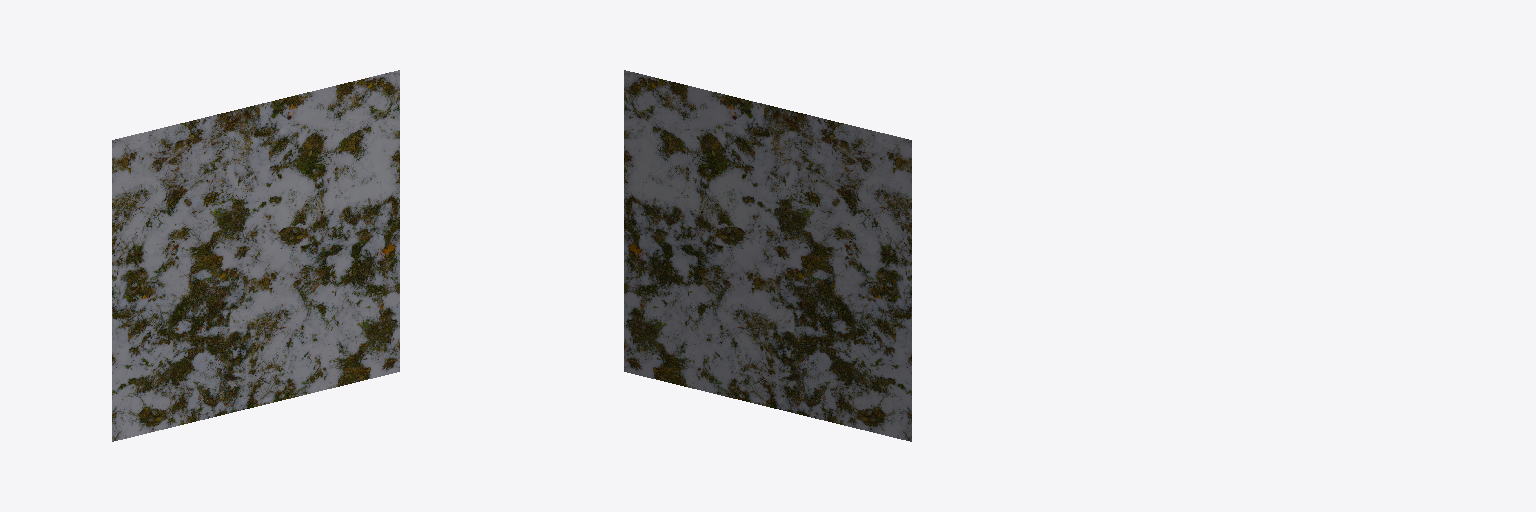
3 renders of one model, left to right at view 1: azimuth 30°, elevation 25°; view 2: azimuth 150°, elevation 25°; view 3: azimuth 270°, elevation 25°, orthographic.
Parts seen in each view (by area): view 1: Plane.004_Mesh; view 2: Plane.004_Mesh; view 3: none.
Boxes of the visible parts, x1,y1,x2,y2 form: Plane.004_Mesh: [112, 70, 399, 441]; Plane.004_Mesh: [624, 70, 911, 441].
Size of the model in its own units: 2 by 2 by 0.
1 materials, 1 textured.